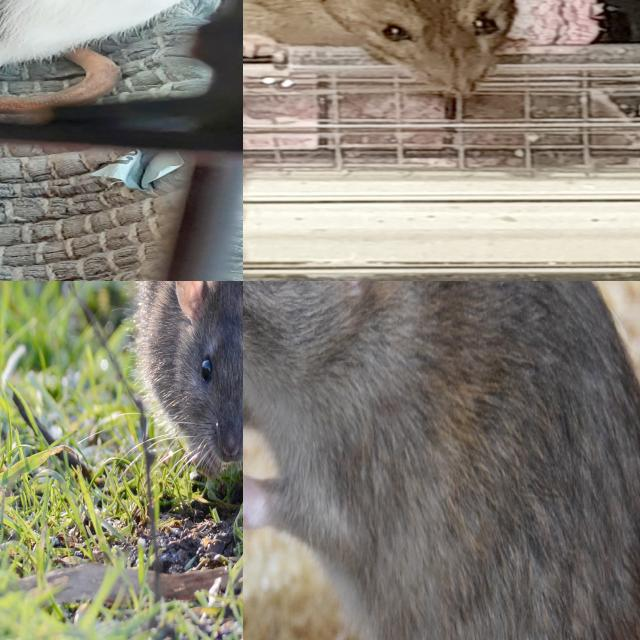rat: (243, 281, 640, 640), (243, 0, 521, 98), (144, 281, 243, 487), (0, 0, 192, 86)
